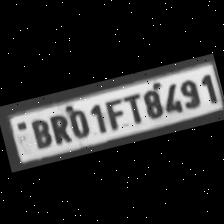0: (62, 103, 92, 139)
1: (195, 68, 221, 106), (85, 100, 108, 134)
4: (157, 78, 183, 115)
8: (136, 84, 163, 121)
9: (174, 74, 202, 110)
B: (26, 113, 54, 149)
F: (100, 94, 127, 131)
R: (44, 108, 72, 146)
T: (119, 89, 144, 125)
